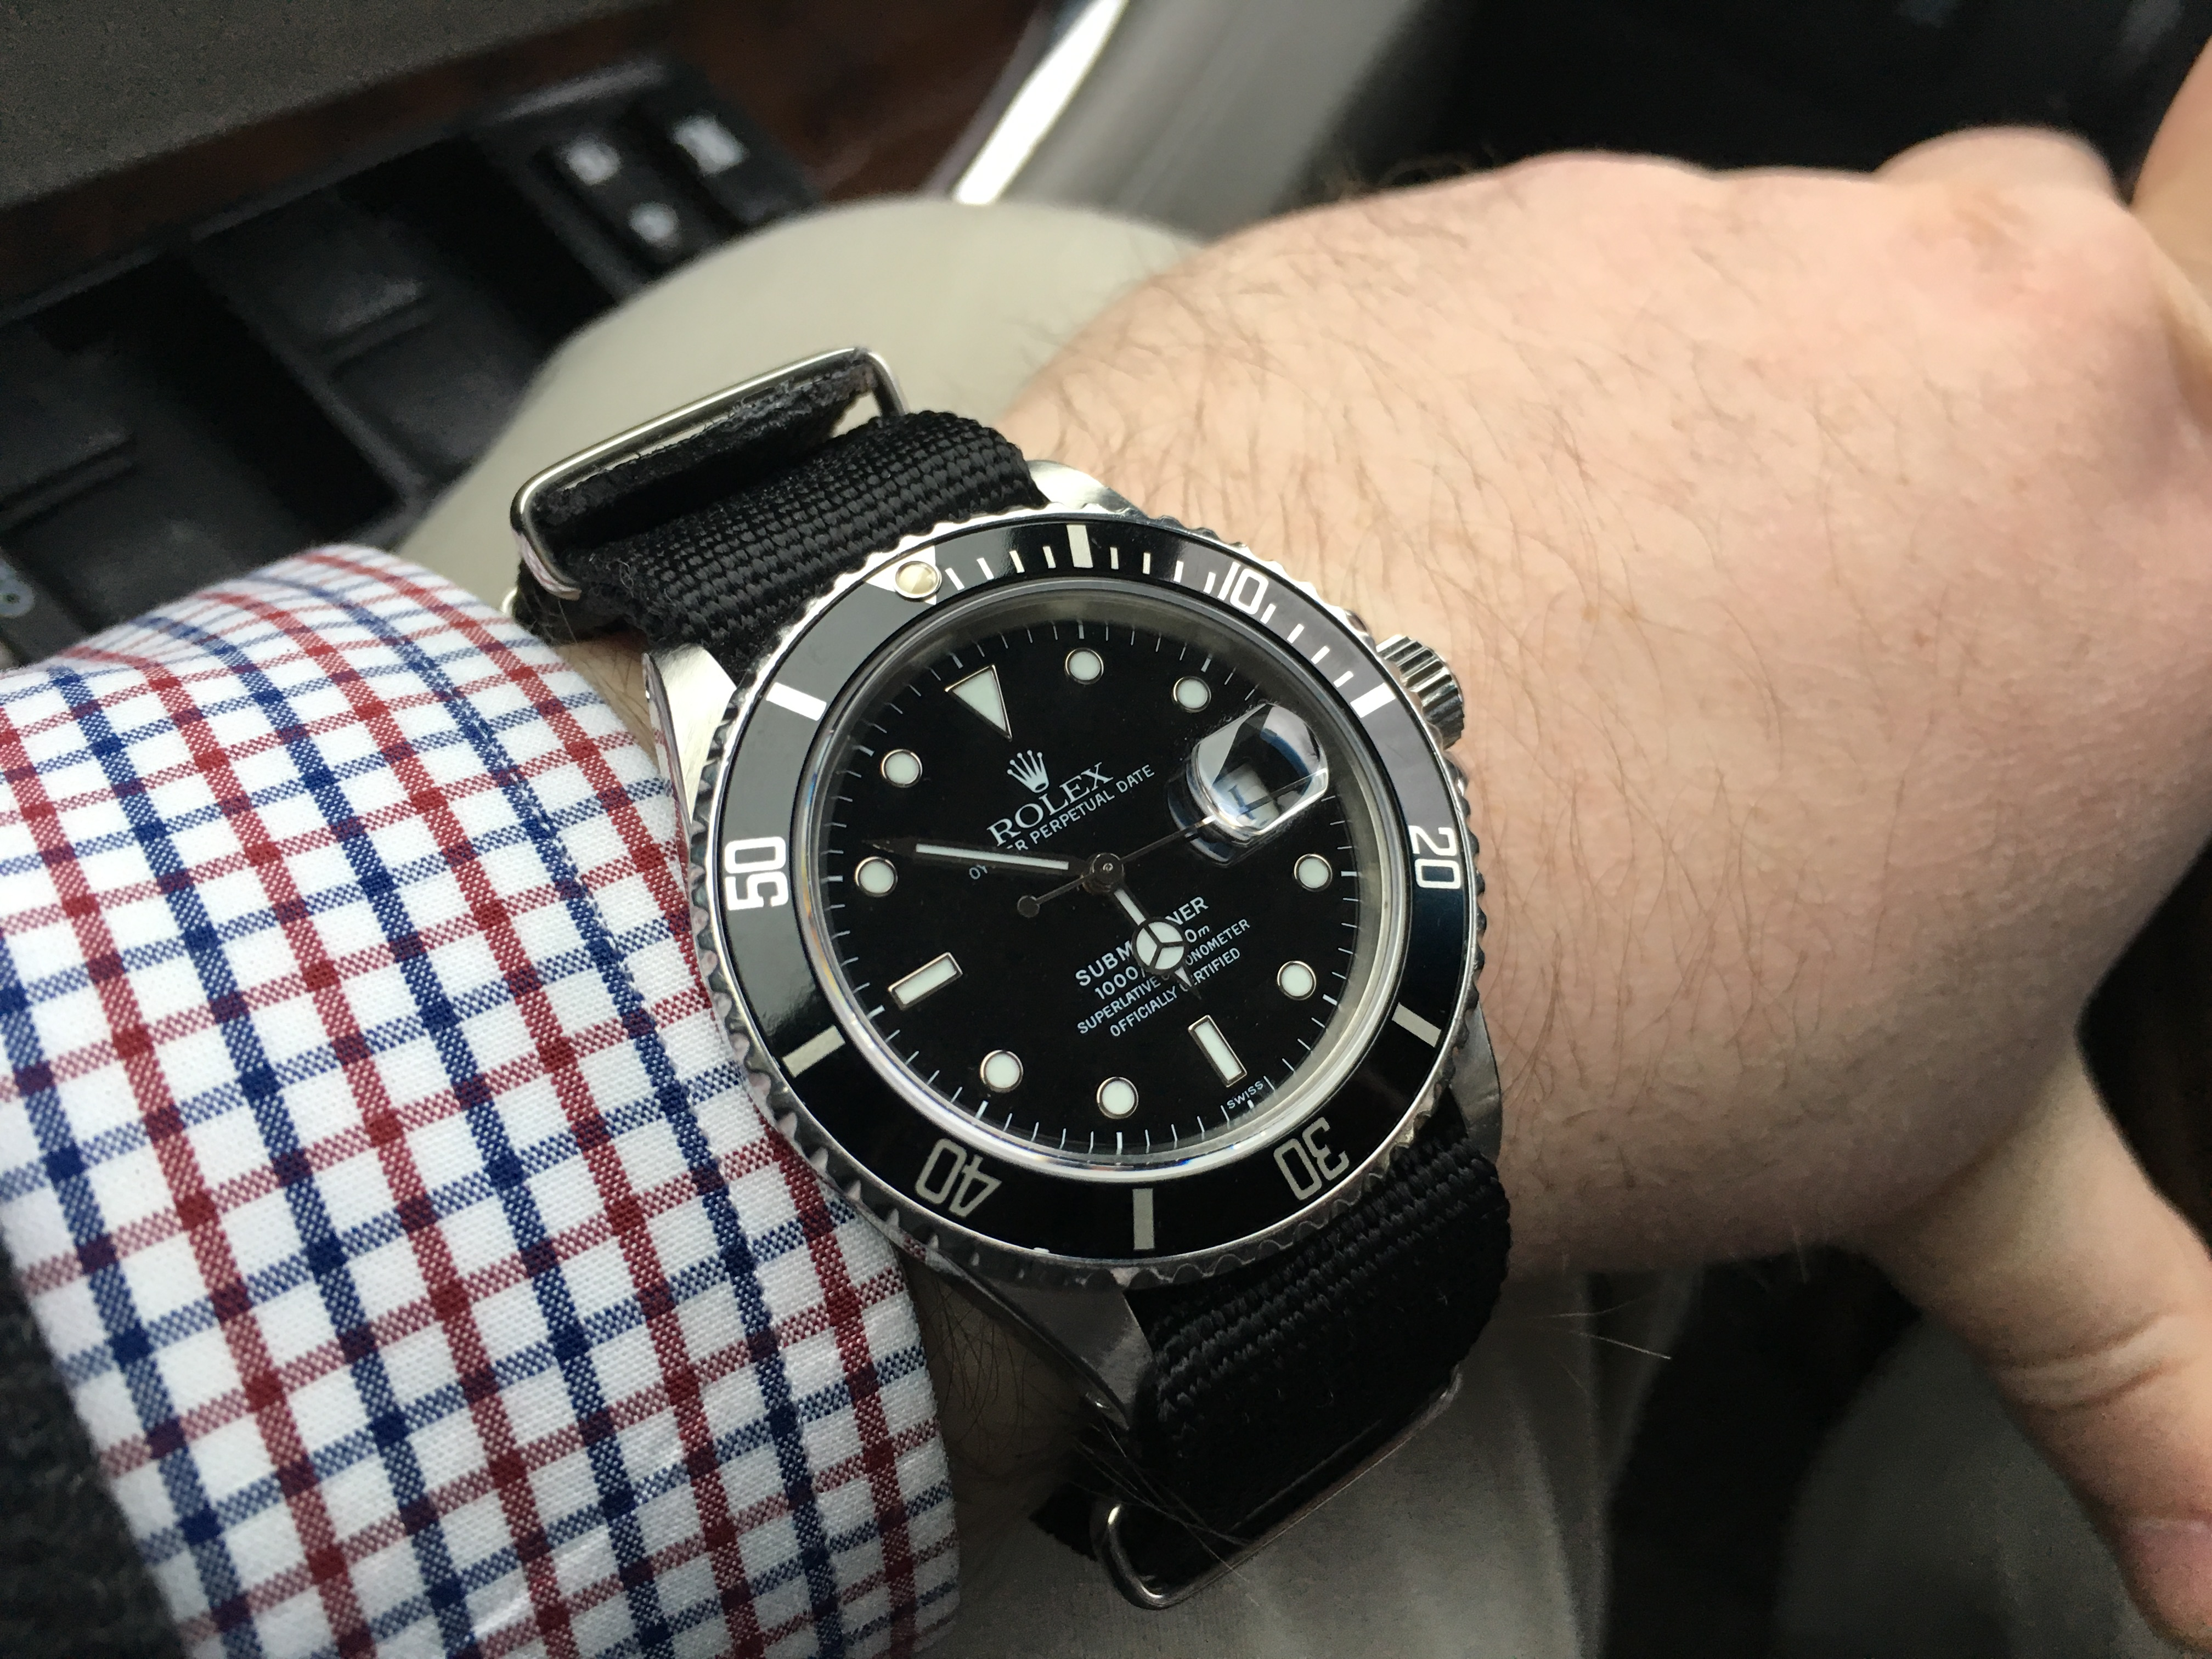clock: (805, 586, 1407, 1183)
